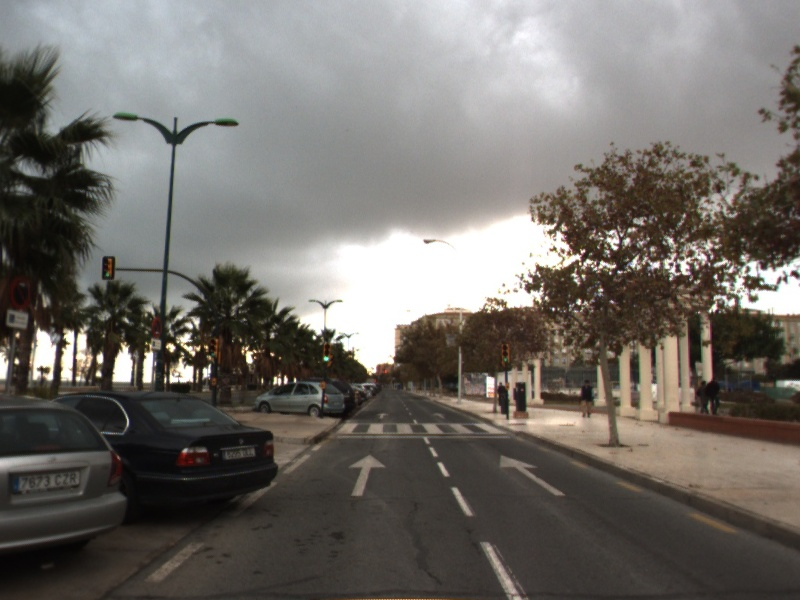STRAIGHT: (498, 452, 568, 497), (347, 453, 388, 497)
